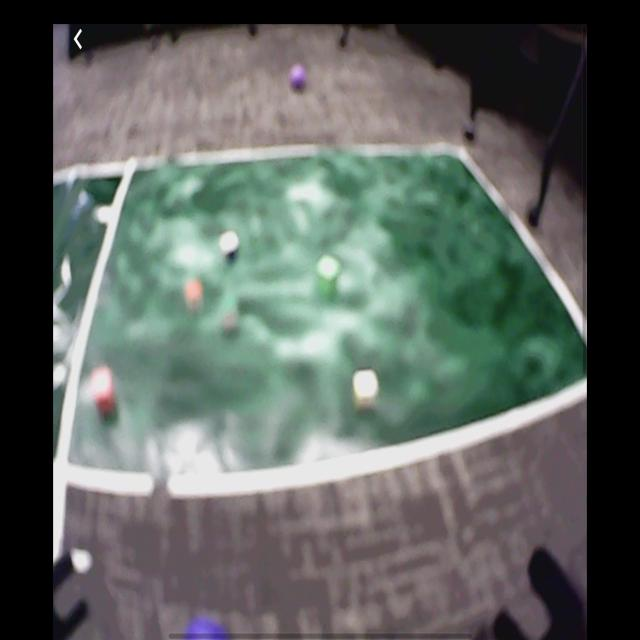ball: (184, 620, 230, 640), (290, 66, 308, 94)
